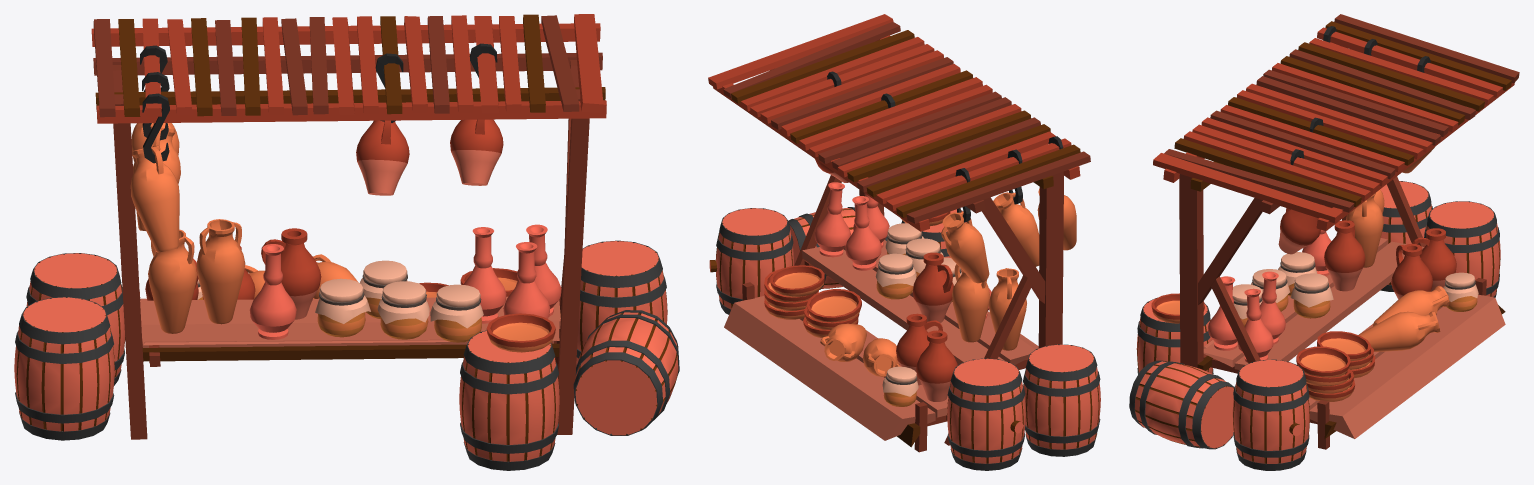
File: StandShop1.fbx
3 views of the same model, side by side, from view 1: azimuth 30°, elevation 25°; view 2: azimuth 150°, elevation 25°; view 3: azimuth 270°, elevation 25° (orthographic). The views are drawn at different scales.
Parts seen in each view (by area): view 1: Cylinder.054; view 2: Cylinder.054; view 3: Cylinder.054.
Part boxes in pixels (box(x1,y1,x2,y2)): Cylinder.054: box(14, 14, 679, 470); Cylinder.054: box(708, 14, 1100, 470); Cylinder.054: box(1129, 14, 1519, 470).
Size of the model in its own units: 507 by 301 by 395.
